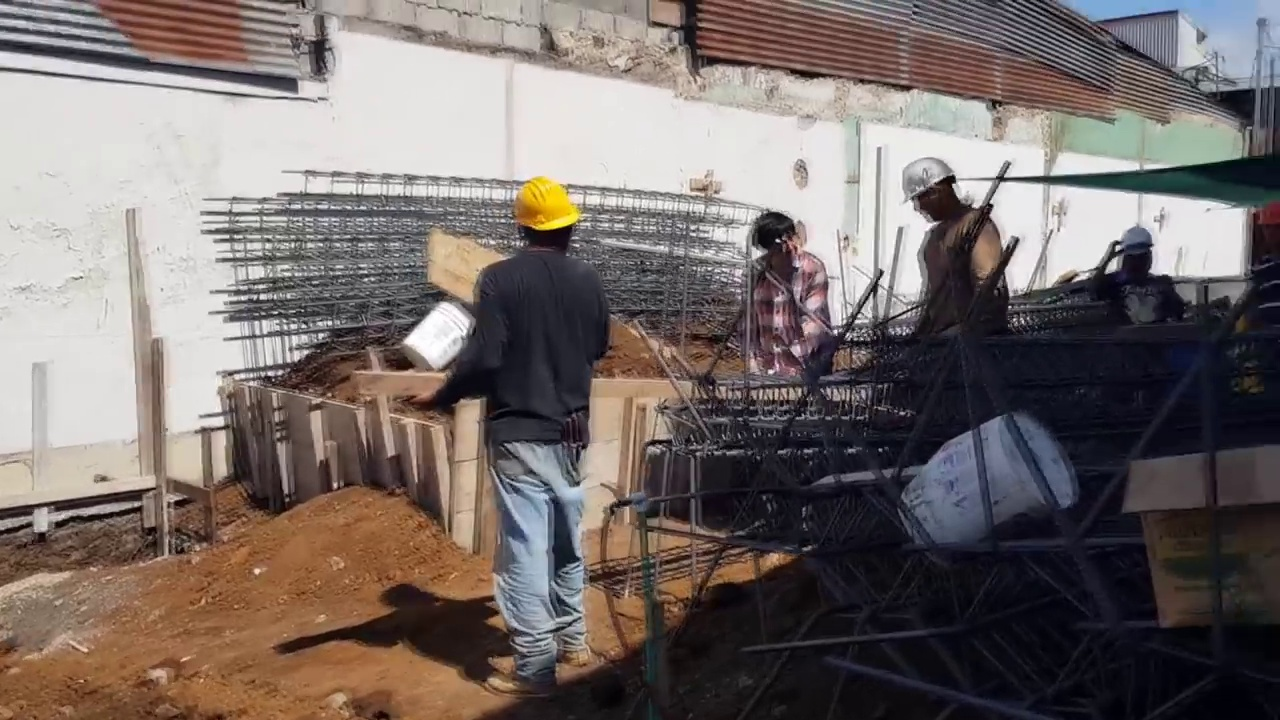helmet: (508, 176, 581, 236), (896, 155, 956, 206), (1117, 229, 1157, 263)
helmet-off: (748, 209, 798, 271)
helmet-on: (502, 170, 584, 261), (906, 154, 973, 230), (1114, 226, 1159, 280)
person: (416, 156, 606, 697), (891, 146, 1013, 345), (739, 209, 839, 392), (1103, 230, 1185, 340)
